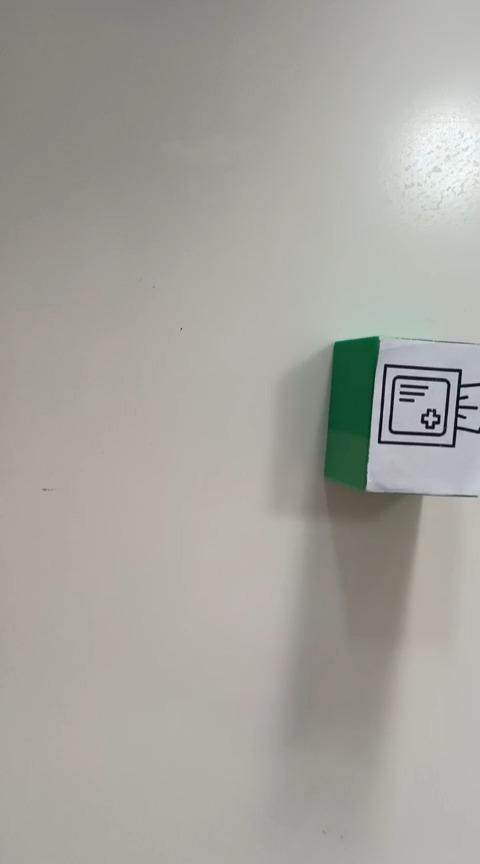Gauze: (322, 334, 478, 498)
